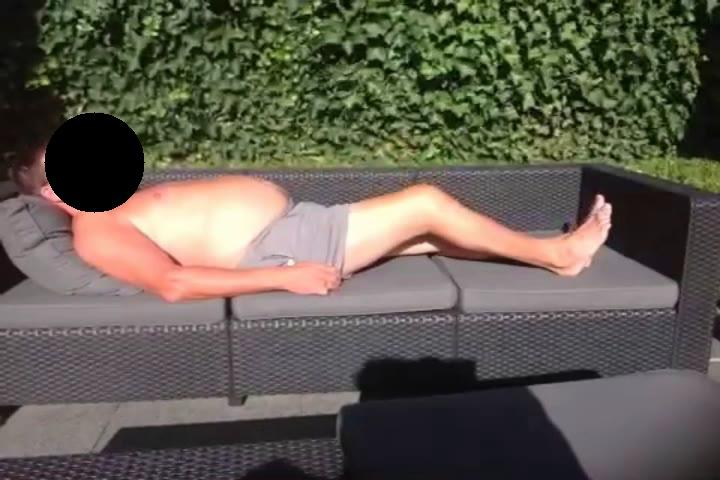lower_body: (281, 181, 616, 281)
